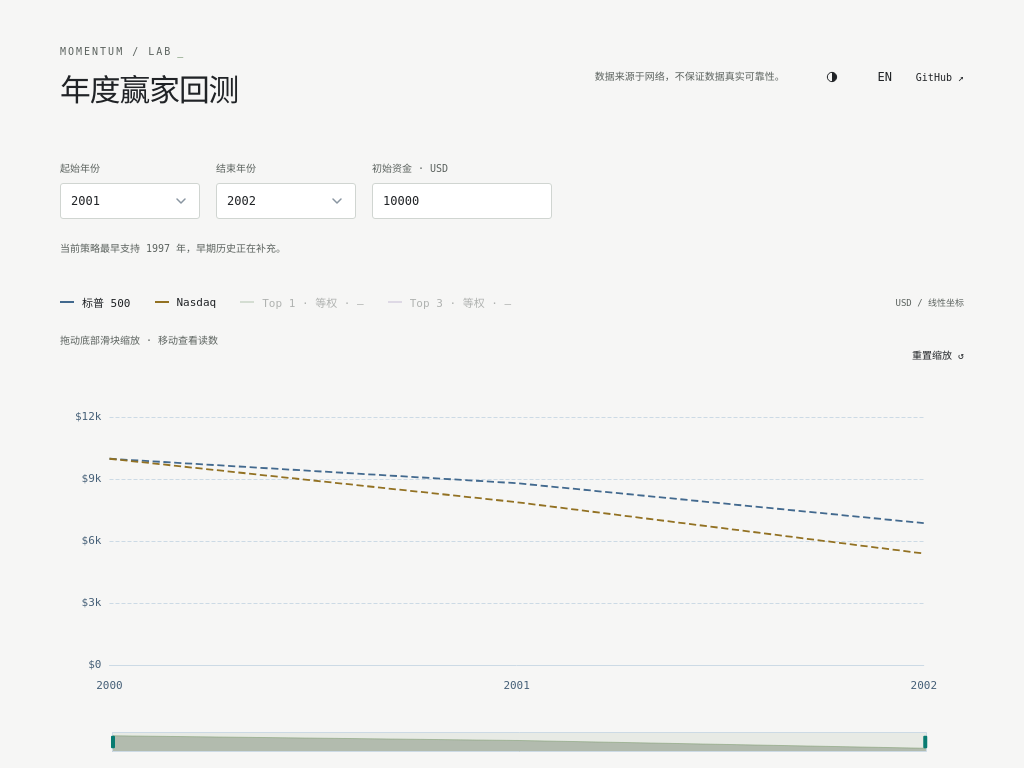
Scenario: end year includes the current year and discloses unavailable YTD references
Select "2026" in the dropdown labelled "结束年份": (286,201) [216,183,356,219]
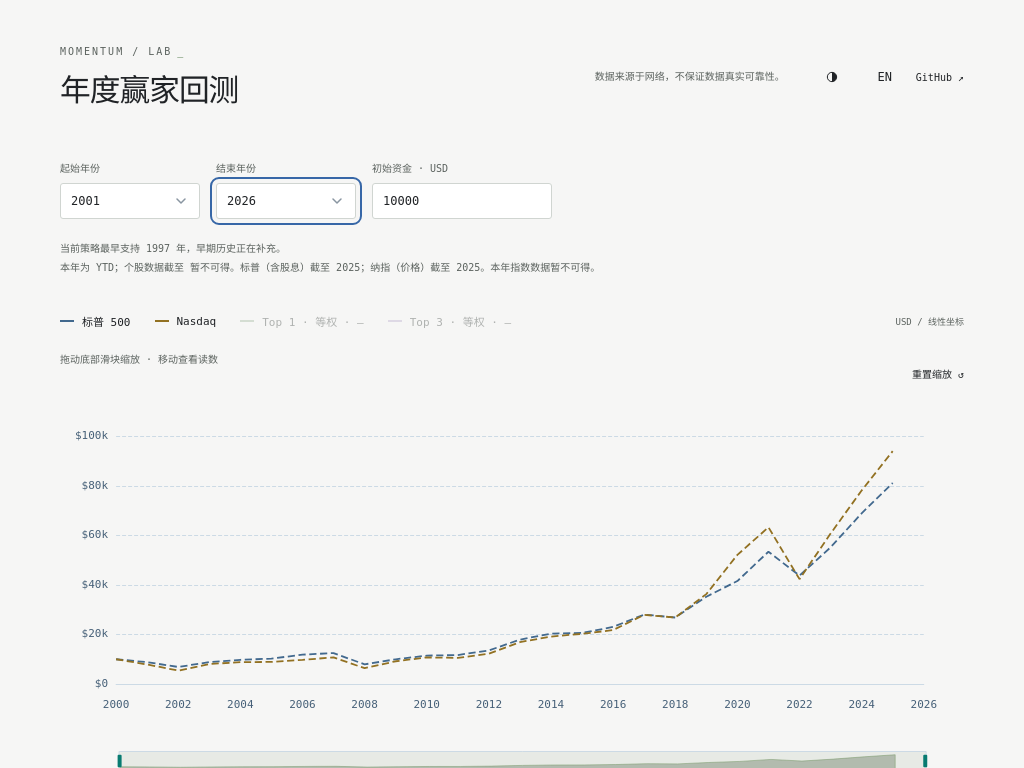
Expected: the text "本年为 YTD；个股数据截至 暂不可得。标普（含股息）截至 2025；纳指（价格）截至 2025。本年指数数据暂不可得。" is shown, [60,262,600,273]
